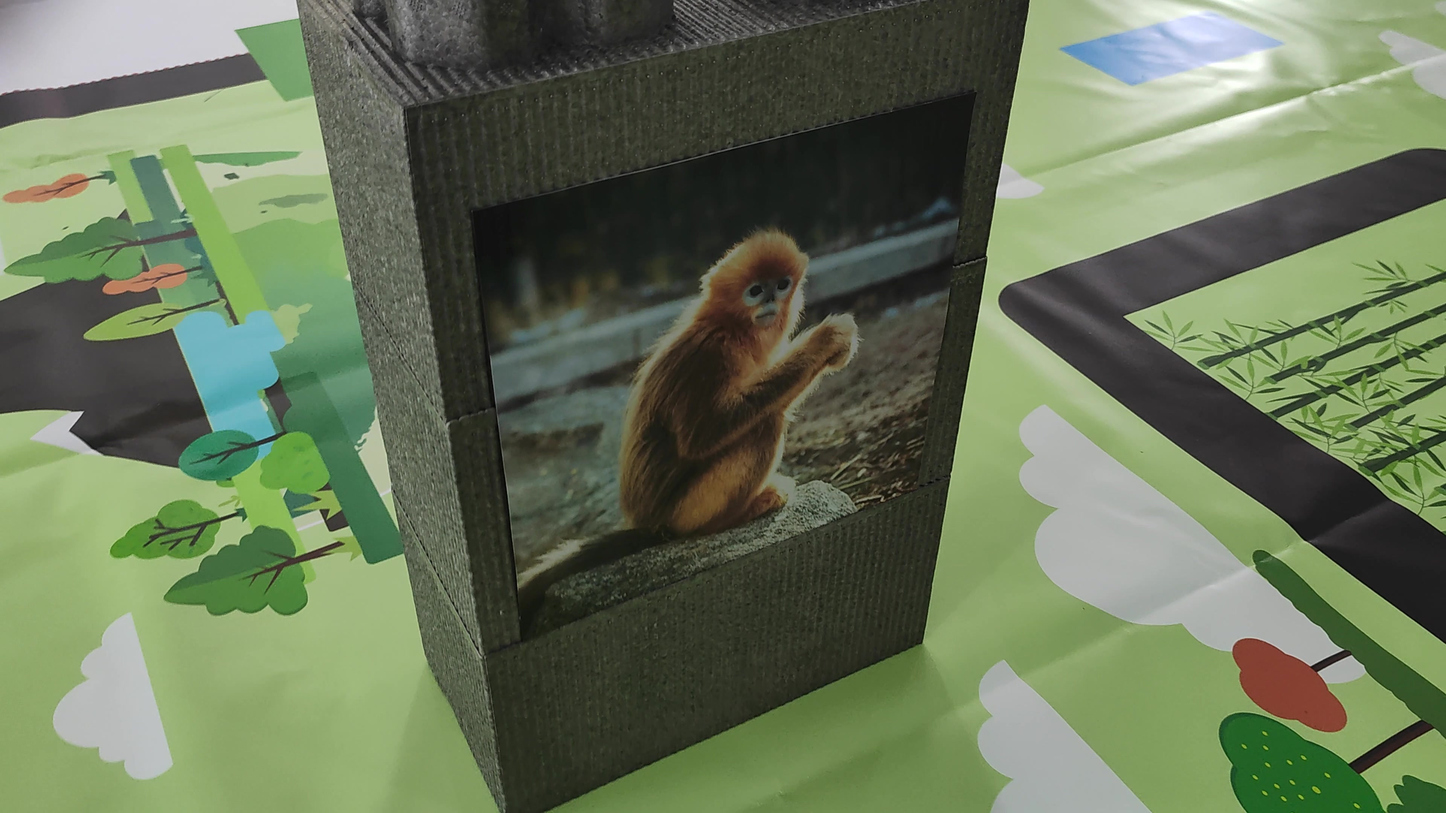monkey: (507, 207, 866, 623)
